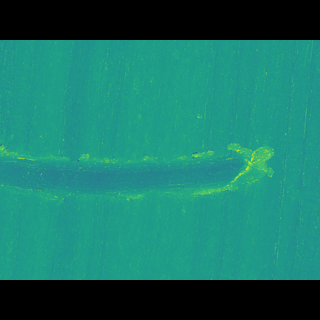Loch: (0, 146, 277, 194)
